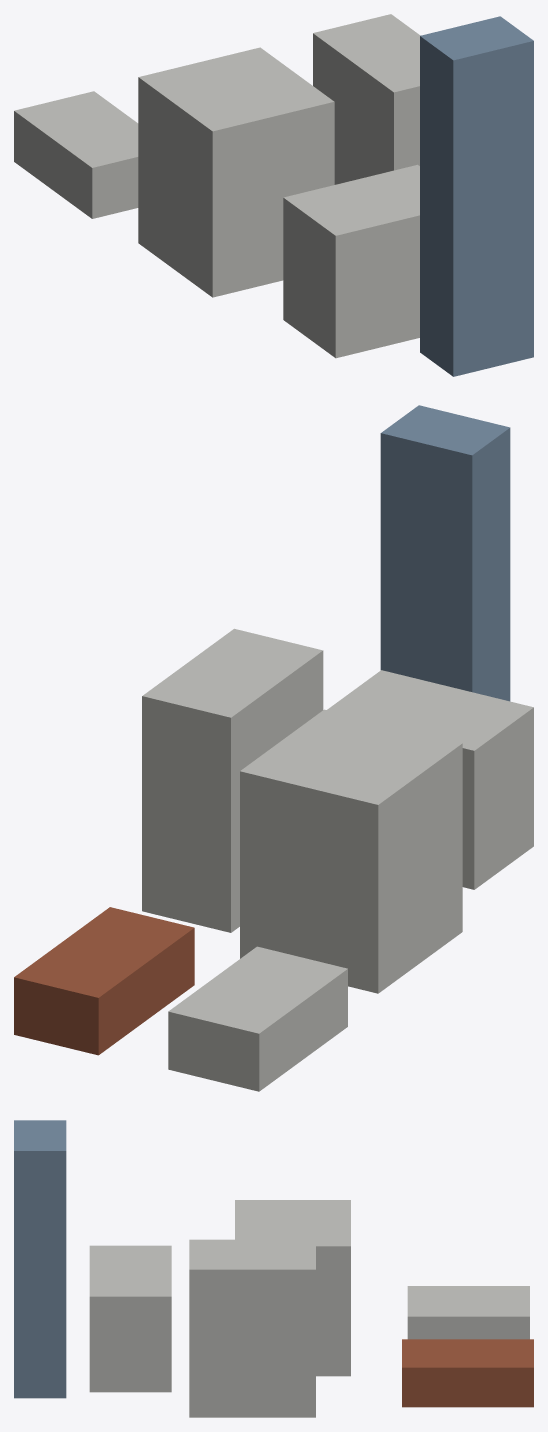
Rendered from synth-02-01.lod2.glb.
The picture shows the model from 3 angles, top to bottom: view 1: azimuth 30°, elevation 25°; view 2: azimuth 150°, elevation 25°; view 3: azimuth 270°, elevation 25°; orthographic projection. The views are drawn at different scales.
Visible parts, largest first — view 1: synth-02-01; view 2: synth-02-01; view 3: synth-02-01.
Boxes of the visible parts, left/top/right/bottom form: synth-02-01: left=14, top=14, right=533, bottom=376; synth-02-01: left=14, top=405, right=533, bottom=1091; synth-02-01: left=14, top=1120, right=533, bottom=1417.
Size of the model in its own units: 35.39 by 44.58 by 84.99.
